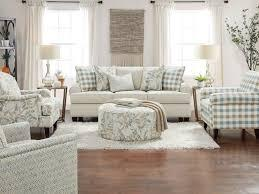chair: (0, 119, 78, 194), (195, 75, 259, 143), (0, 70, 59, 133)
light: (36, 44, 61, 83), (195, 42, 220, 78)
sofa: (69, 63, 193, 118)
table: (91, 99, 167, 141), (36, 84, 70, 117), (192, 86, 212, 122)
